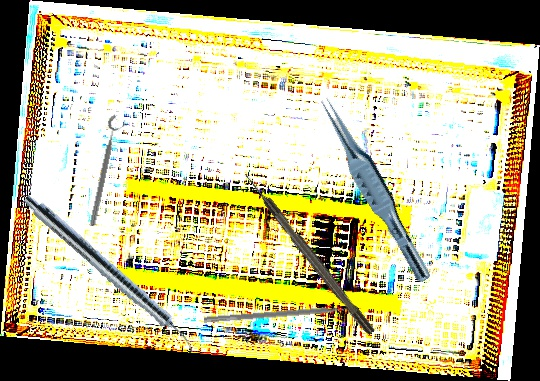Fixation Ring: (86, 113, 128, 229)
Handpiece: (17, 191, 203, 356)
Hook Surgical: (241, 170, 376, 337)
Spatula Surgical: (203, 303, 360, 330)
Tissue Forceps: (308, 93, 443, 285)
